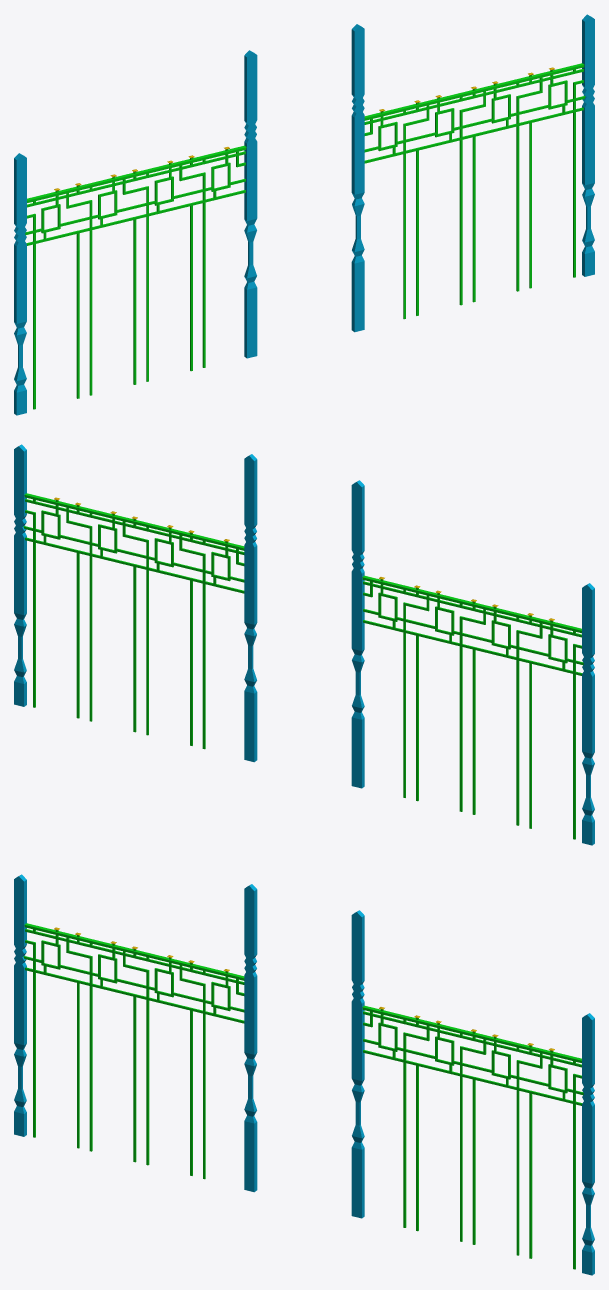
The model's file is Gate.fbx.
3 views of the same model, one above another, from view 1: azimuth 30°, elevation 25°; view 2: azimuth 150°, elevation 25°; view 3: azimuth 330°, elevation 25° (orthographic).
Parts seen in each view (by area): view 1: Gate; view 2: Gate; view 3: Gate.
Part boxes in pixels (left/top/right/bottom): Gate: left=14, top=14, right=594, bottom=415; Gate: left=14, top=444, right=594, bottom=845; Gate: left=14, top=874, right=594, bottom=1275.
Bounding box in the file's own units: 2042 × 1033 × 16.95.
